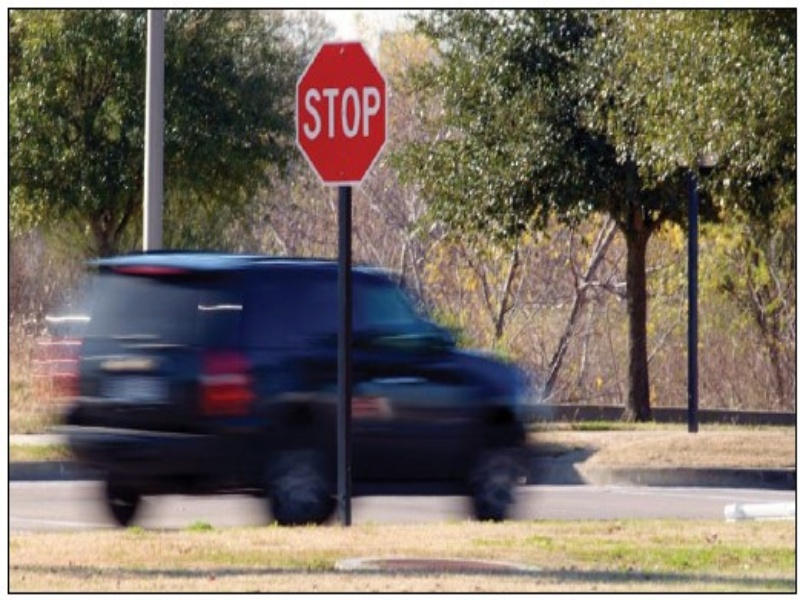stop sign: (290, 39, 398, 190)
